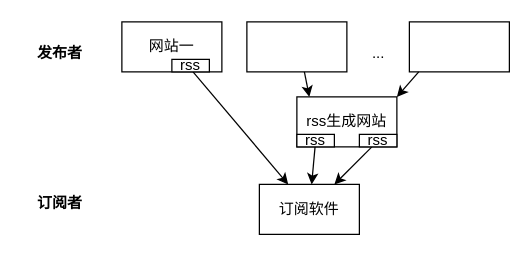
This 531x256 diagram has some shape labels left out. Each missing label, with the box of its shape:
网站二: (246, 21, 347, 72)
网站喵: (408, 21, 509, 72)
